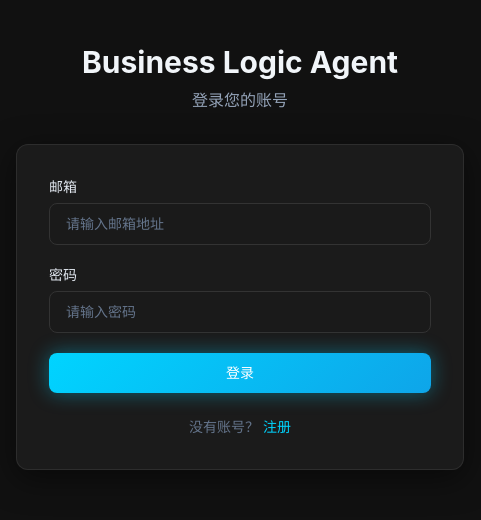
LoginPage › 登录失败应显示错误信息
Type "test@example.com" into the field labelled "邮箱" at [240, 224], box [49,203,431,245]
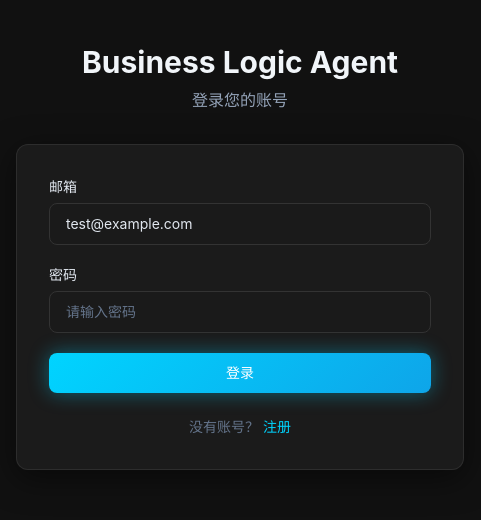
Type "wrong" into the password field labelled "密码" at [240, 312], box [49,291,431,333]
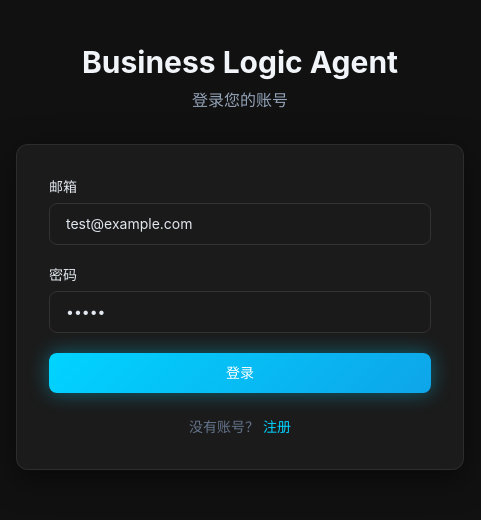
Click the button "登录" at [240, 373], box [49,353,431,393]
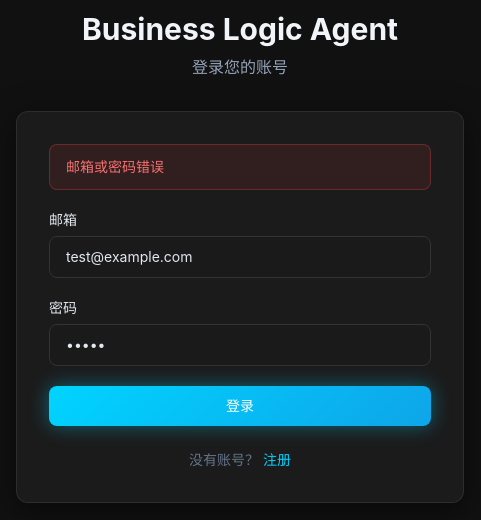
Expected: the text "邮箱或密码错误" is shown, [49,144,431,190]
